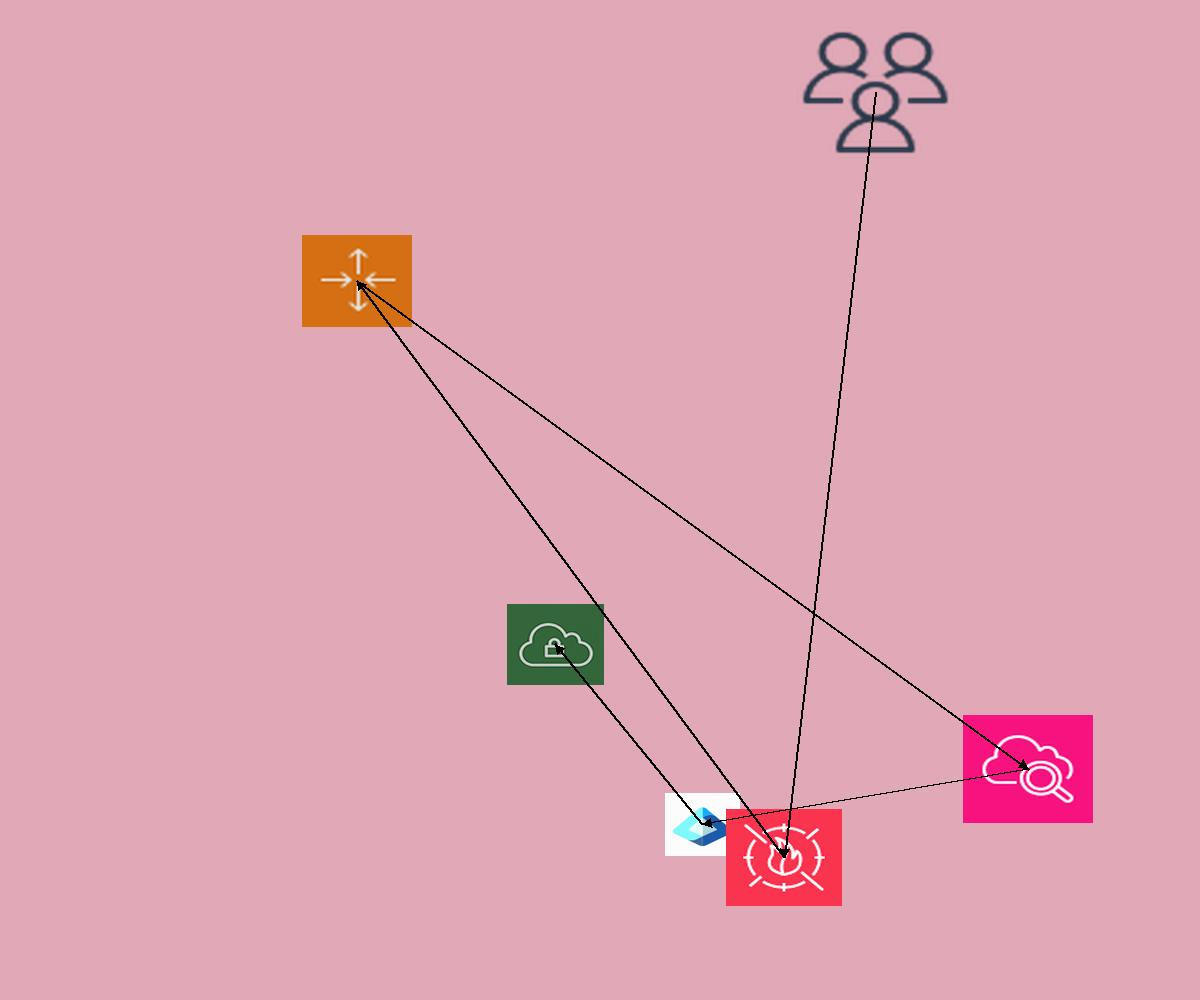AWS-CloudWatch: (963, 715, 1093, 823)
AWS-Private_vpc: (507, 604, 604, 685)
AWS-Res_Users: (797, 27, 954, 158)
AWS-Scaling-group: (302, 235, 412, 327)
AWS-WAF: (726, 809, 842, 906)
Azure_microsoft_entra: (665, 793, 740, 856)
